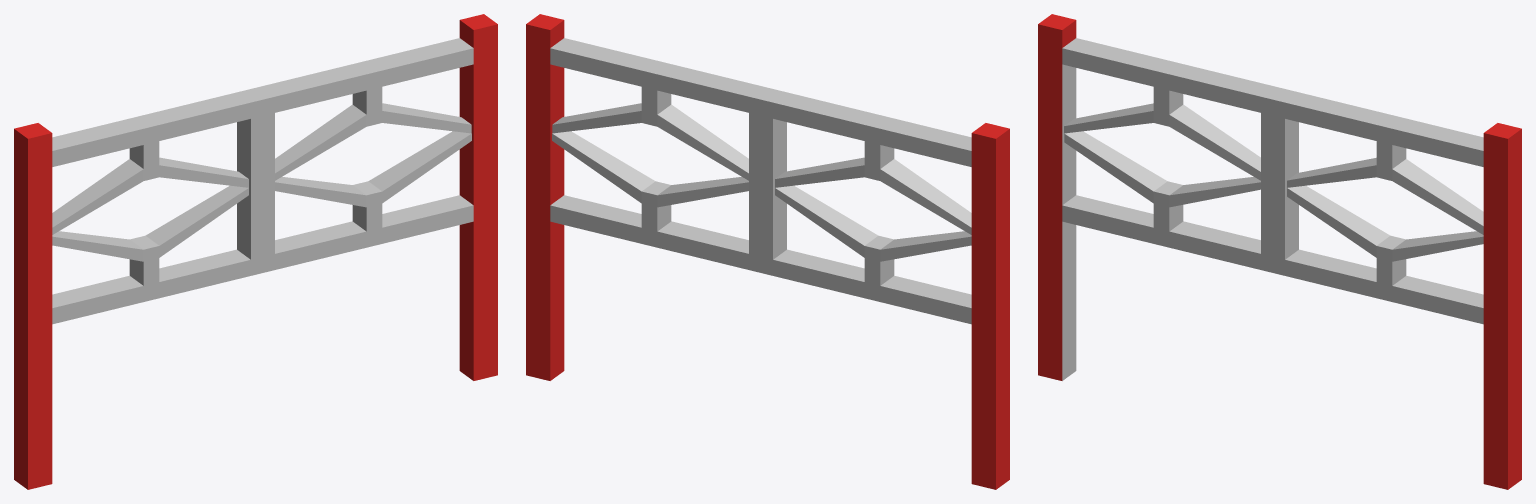
File: ЖД вокзал забор.fbx
3 views of the same model, side by side, from view 1: azimuth 30°, elevation 25°; view 2: azimuth 150°, elevation 25°; view 3: azimuth 330°, elevation 25° (orthographic).
Visible parts, largest first — view 1: Cube.033; view 2: Cube.033; view 3: Cube.033.
Part boxes in pixels (x1,y1,x2,y2): Cube.033: (14, 14, 497, 489); Cube.033: (526, 14, 1009, 489); Cube.033: (1038, 14, 1521, 489).
Size of the model in its own units: 317 by 226 by 16.37.
